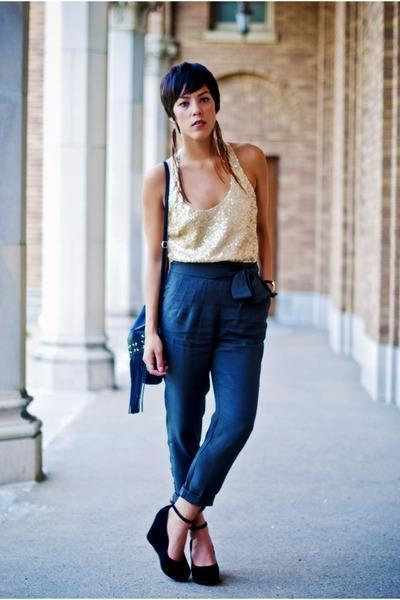bag: (128, 307, 155, 413)
pants: (156, 259, 275, 517)
shirt: (168, 180, 261, 275)
shoe: (147, 502, 227, 586)
